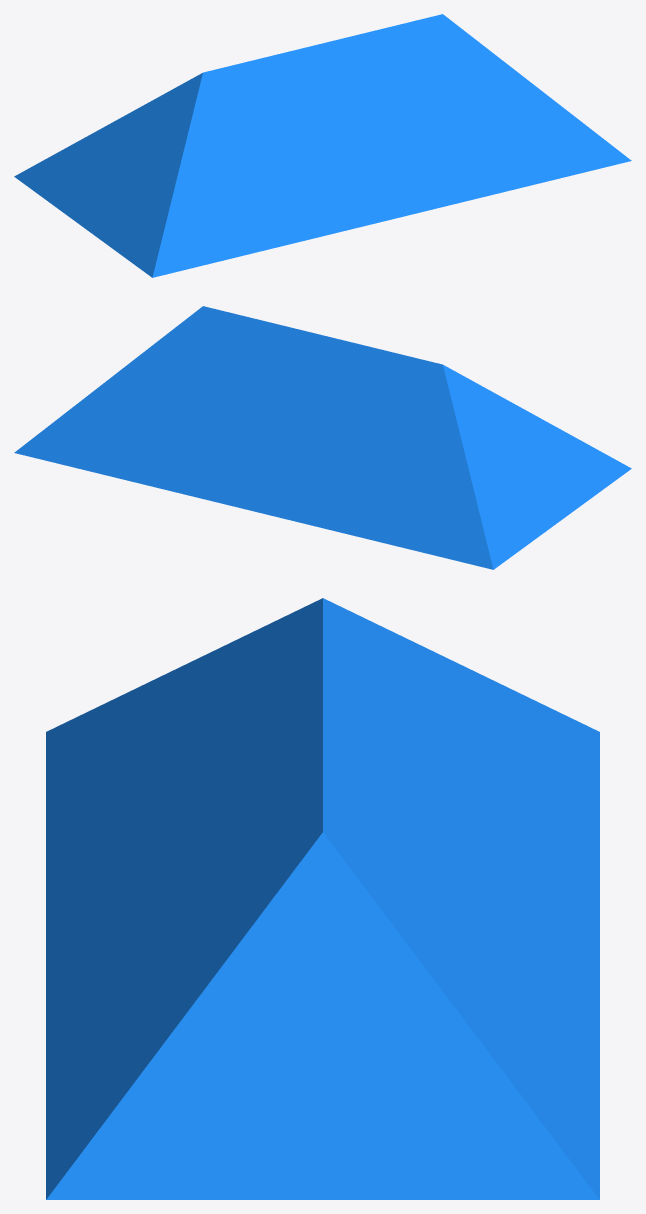
The model's file is Proto_Building_Block_Roof_02.fbx.
The picture shows the model from 3 angles, top to bottom: view 1: azimuth 30°, elevation 25°; view 2: azimuth 150°, elevation 25°; view 3: azimuth 270°, elevation 25°; orthographic projection. The views are drawn at different scales.
Visible parts, largest first — view 1: Proto_Building_Block_Roof_02; view 2: Proto_Building_Block_Roof_02; view 3: Proto_Building_Block_Roof_02.
Boxes of the visible parts, x1,y1,x2,y2 form: Proto_Building_Block_Roof_02: [14, 14, 631, 277]; Proto_Building_Block_Roof_02: [14, 306, 631, 569]; Proto_Building_Block_Roof_02: [46, 598, 599, 1199].
Size of the model in its own units: 4 by 1 by 2.
